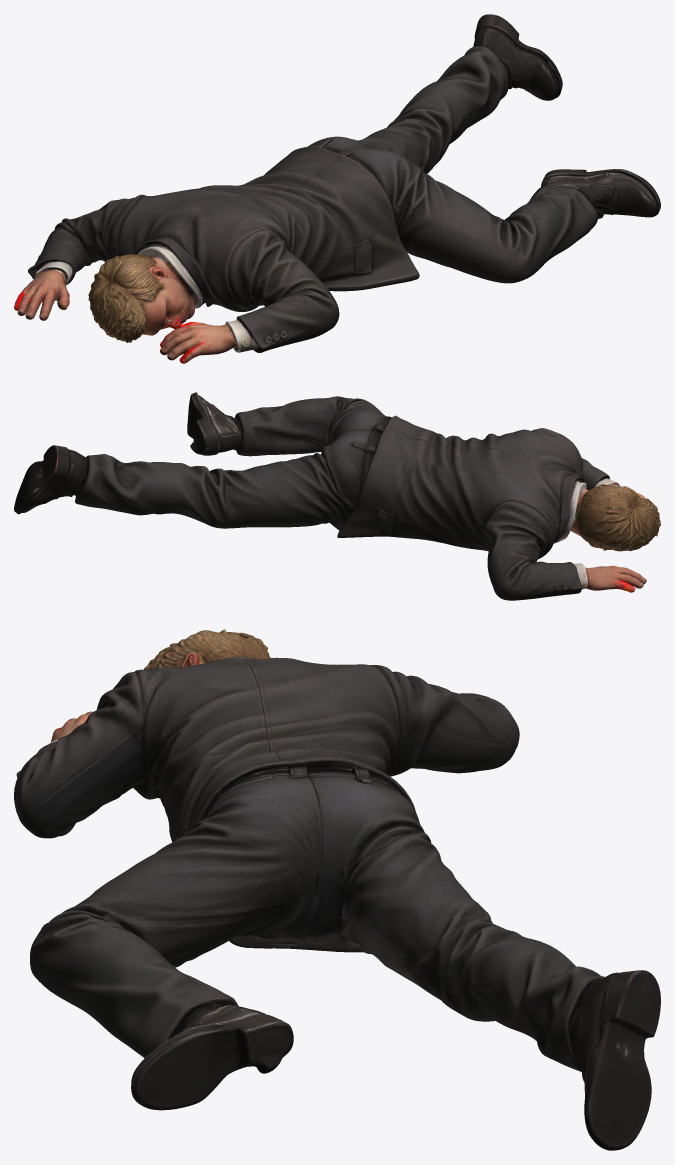
The model's file is ceo_dead2.glb.
3 renders of one model, top to bottom at view 1: azimuth 30°, elevation 25°; view 2: azimuth 150°, elevation 25°; view 3: azimuth 270°, elevation 25°, orthographic. The views are drawn at different scales.
Visible parts, largest first — view 1: mesh_node; view 2: mesh_node; view 3: mesh_node.
Boxes of the visible parts, x1=… form: mesh_node: x1=14, y1=14, x2=660, y2=363; mesh_node: x1=14, y1=392, x2=660, y2=600; mesh_node: x1=14, y1=629, x2=660, y2=1150.
Bounding box in the file's own units: 1.9 × 0.2933 × 1.1.
1 material, 1 textured.
